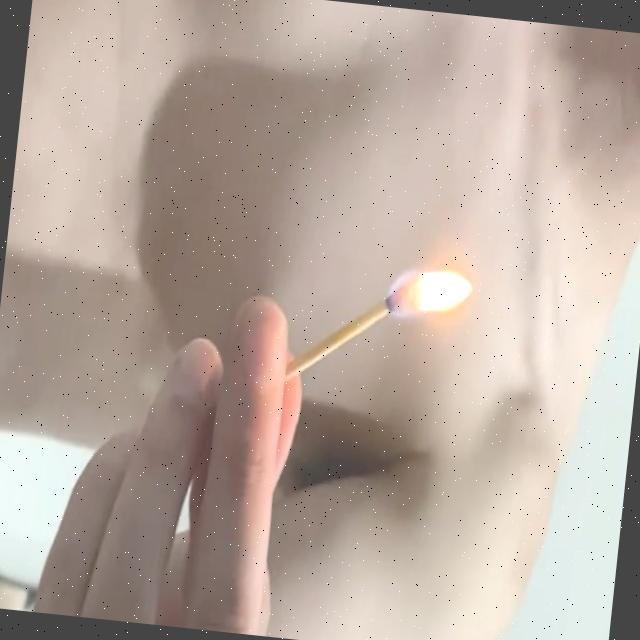fire: (380, 254, 476, 326)
